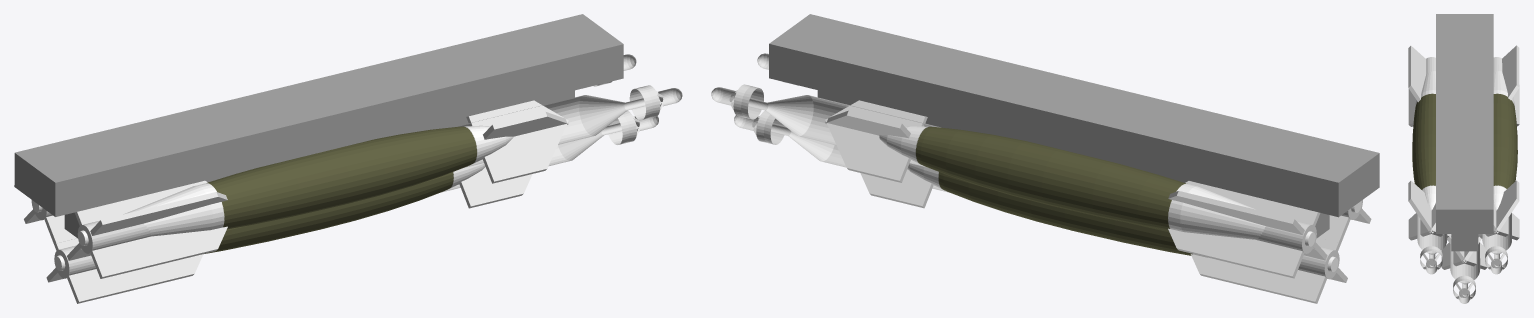
File: f15gbu122.glb
3 views of the same model, side by side, from view 1: azimuth 30°, elevation 25°; view 2: azimuth 150°, elevation 25°; view 3: azimuth 270°, elevation 25° (orthographic). The views are drawn at different scales.
Visible parts, largest first — view 1: 立方体.011, 円柱.010, 円柱.012, 円柱.011; view 2: 立方体.011, 円柱.011, 円柱.012, 円柱.010; view 3: 立方体.011, 円柱.010, 円柱.011, 円柱.012.
Part boxes in pixels (x1=…): 立方体.011: x1=14, y1=14, x2=623, y2=238; 円柱.010: x1=70, y1=85, x2=682, y2=278; 円柱.012: x1=46, y1=110, x2=658, y2=303; 円柱.011: x1=24, y1=54, x2=636, y2=244; 立方体.011: x1=769, y1=14, x2=1379, y2=238; 円柱.011: x1=711, y1=84, x2=1324, y2=278; 円柱.012: x1=734, y1=110, x2=1347, y2=303; 円柱.010: x1=757, y1=53, x2=1371, y2=244; 立方体.011: x1=1436, y1=14, x2=1493, y2=251; 円柱.010: x1=1408, y1=46, x2=1451, y2=274; 円柱.011: x1=1478, y1=45, x2=1519, y2=274; 円柱.012: x1=1441, y1=236, x2=1487, y2=303.
Size of the model in its own units: 4.14 by 0.8421 by 0.9079.
3 materials, 1 textured.
